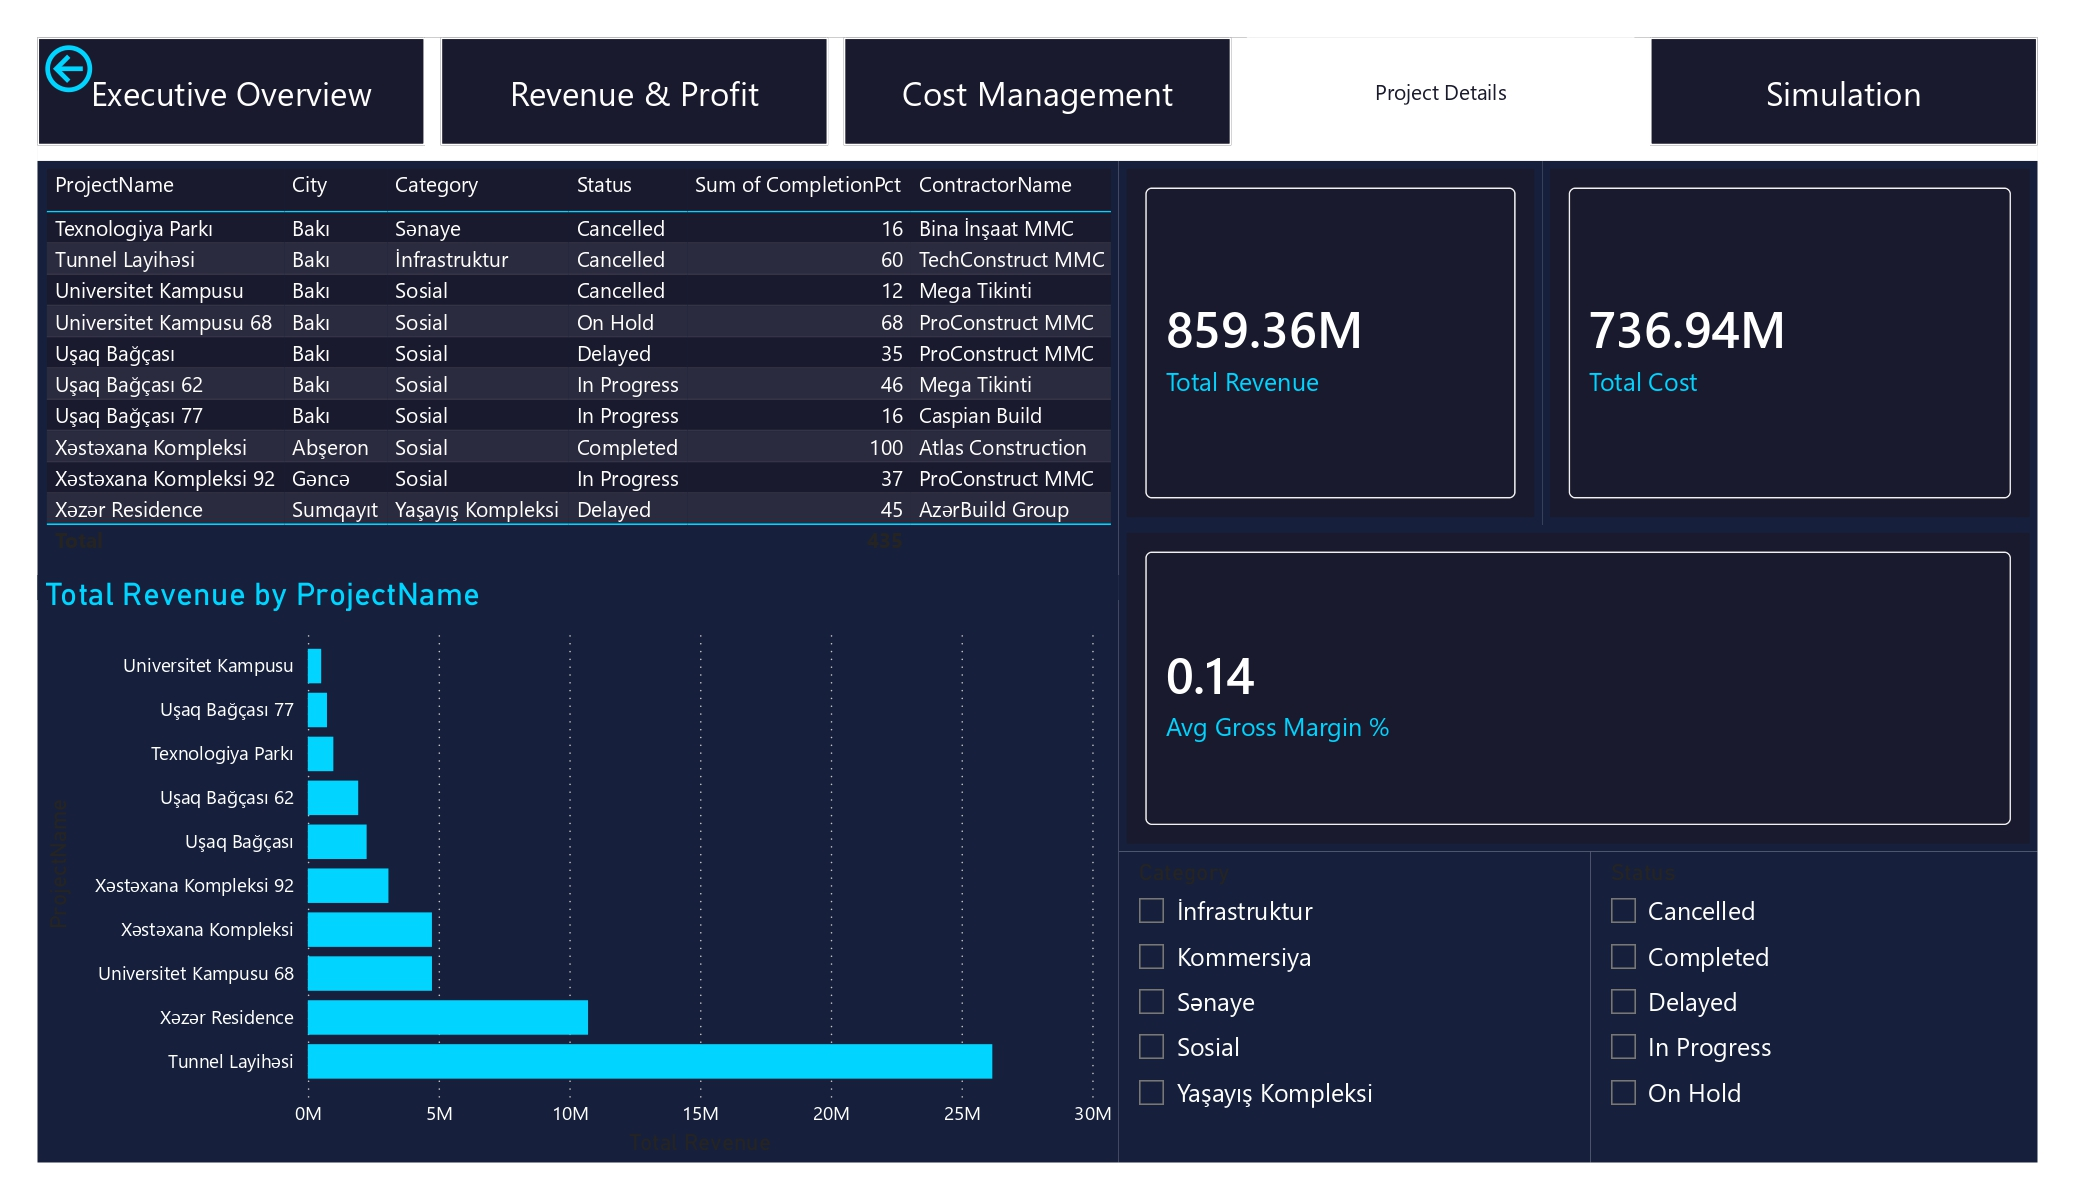

Layout of this report page (visuals, bound fields, positions):
{"tool":"powerbi","page":{"name":"Project Details","canvas":[1280,720],"ordinal":3},"visuals":[{"type":"pageNavigator","box":[0,0,1280,68.9],"z":0},{"type":"tableEx","fields":{"Values":["dim_projects_v2.ProjectName","dim_projects_v2.City","dim_projects_v2.Category","dim_projects_v2.Status","Sum(dim_projects_v2.CompletionPct)","dim_projects_v2.ContractorName"]},"box":[0,79,692.2,281],"z":1000},{"type":"clusteredBarChart","fields":{"Category":["dim_projects_v2.ProjectName"],"Y":["_Measures.Total Revenue"]},"box":[0,343.9,692.2,376.1],"z":2000},{"type":"cardVisual","fields":{"Data":["_Measures.Total Revenue"]},"box":[692.2,79,270.7,232.7],"z":3000},{"type":"cardVisual","fields":{"Data":["_Measures.Total Cost"]},"box":[962.9,79,317.6,232.7],"z":4000},{"type":"cardVisual","fields":{"Data":["_Measures.Avg Gross Margin %"]},"box":[692.2,311.7,588.3,209.3],"z":5000},{"type":"slicer","fields":{"Values":["dim_projects_v2.Category"]},"box":[692.2,521,301.5,199],"z":6000},{"type":"slicer","fields":{"Values":["dim_projects_v2.Status"]},"box":[993.7,521,286.8,199],"z":7000},{"type":"actionButton","box":[0,0,100,40],"z":8000}]}

Visuals, with their boxes on the page's 1280x720 design canvas (x1, y1, x2, y2). These are canvas units, not pixel positions in the 2075x1200 screenshot, which may show the page scaled, cropped or inside an application window:
pageNavigator: <region>0, 0, 1280, 69</region>
tableEx - dim_projects_v2.ProjectName x dim_projects_v2.City: <region>0, 79, 692, 360</region>
clusteredBarChart - dim_projects_v2.ProjectName x _Measures.Total Revenue: <region>0, 344, 692, 720</region>
cardVisual - _Measures.Total Revenue: <region>692, 79, 963, 312</region>
cardVisual - _Measures.Total Cost: <region>963, 79, 1280, 312</region>
cardVisual - _Measures.Avg Gross Margin %: <region>692, 312, 1280, 521</region>
slicer - dim_projects_v2.Category: <region>692, 521, 994, 720</region>
slicer - dim_projects_v2.Status: <region>994, 521, 1280, 720</region>
actionButton: <region>0, 0, 100, 40</region>
